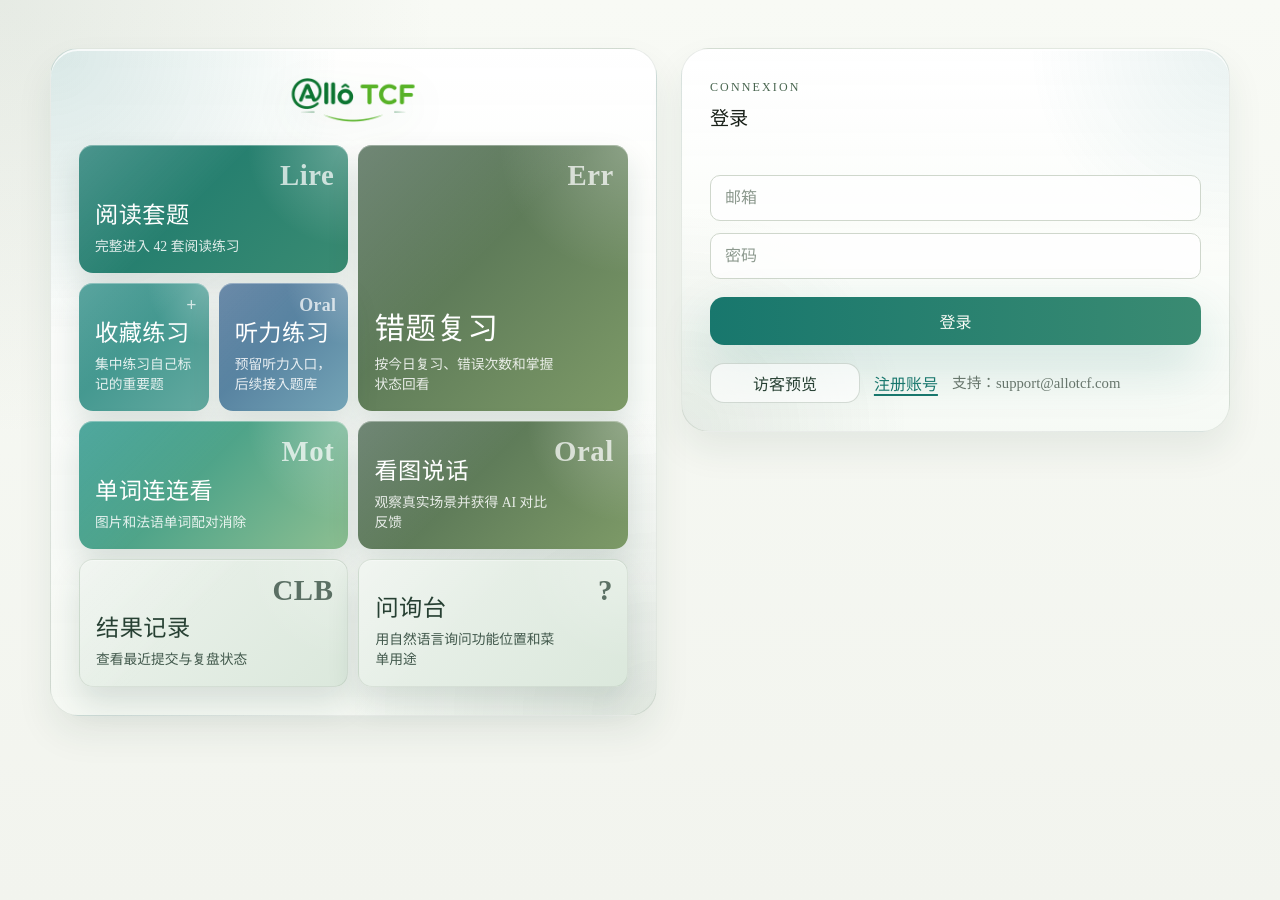
Test: LoginPage › shows detailed error message in development when login fails
The width and height of the screenshot is (1280, 900).
Type "a@b.com" into the field with placeholder "邮箱" at (955, 198), box [710,175,1201,221]
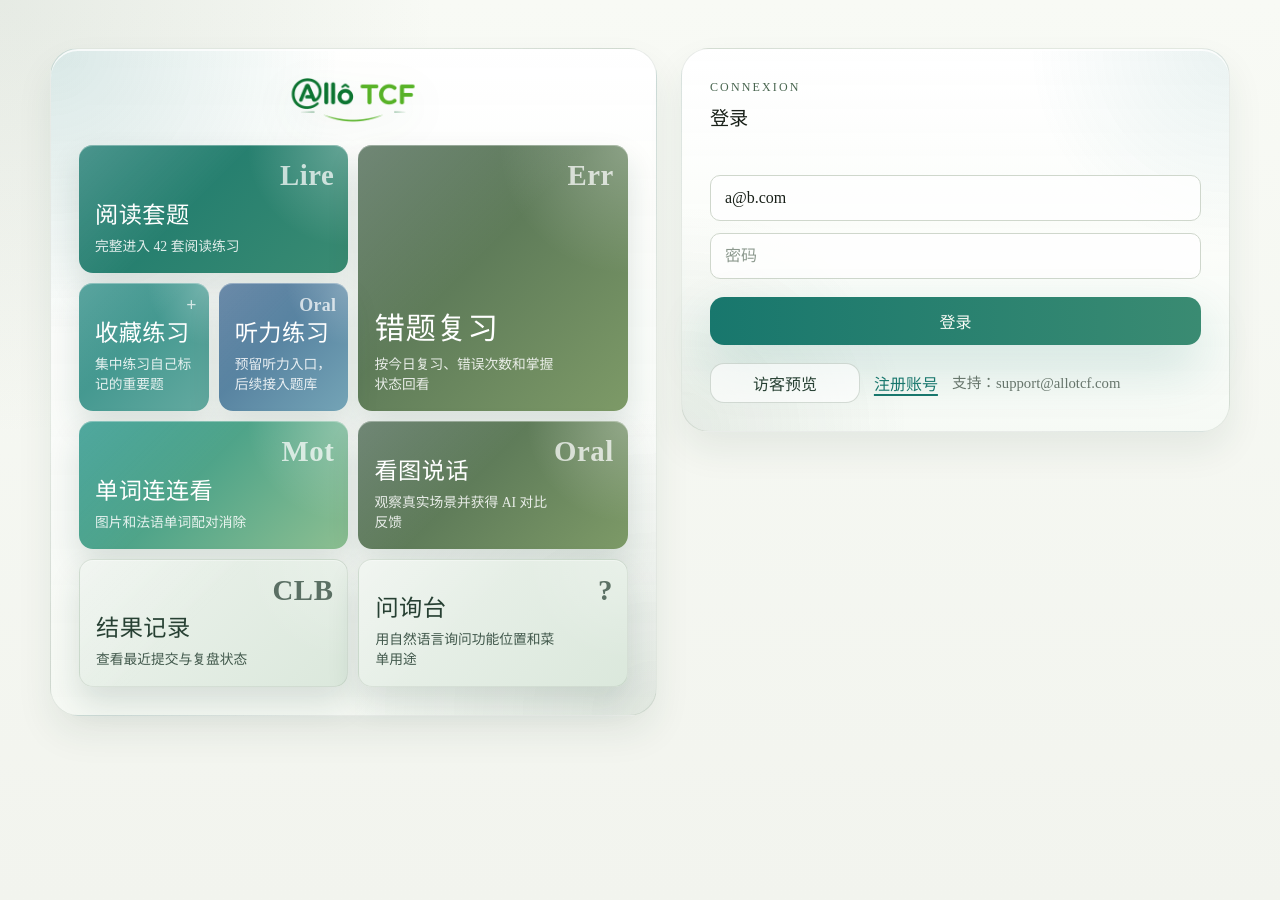
Type "password123" into the password field with placeholder "密码" at (955, 256), box [710,233,1201,279]
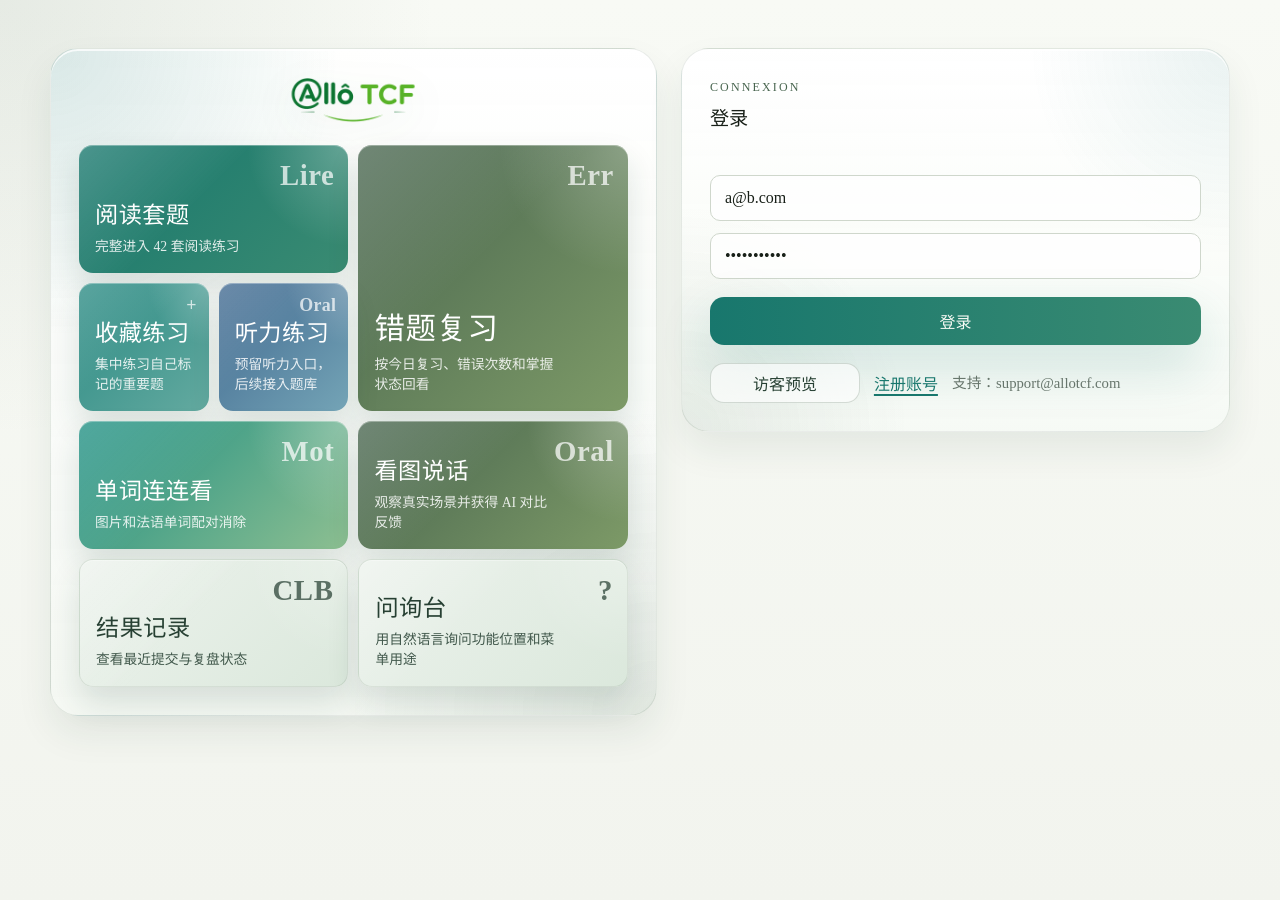
Click the button "登录" at (955, 321), box [710,297,1201,345]
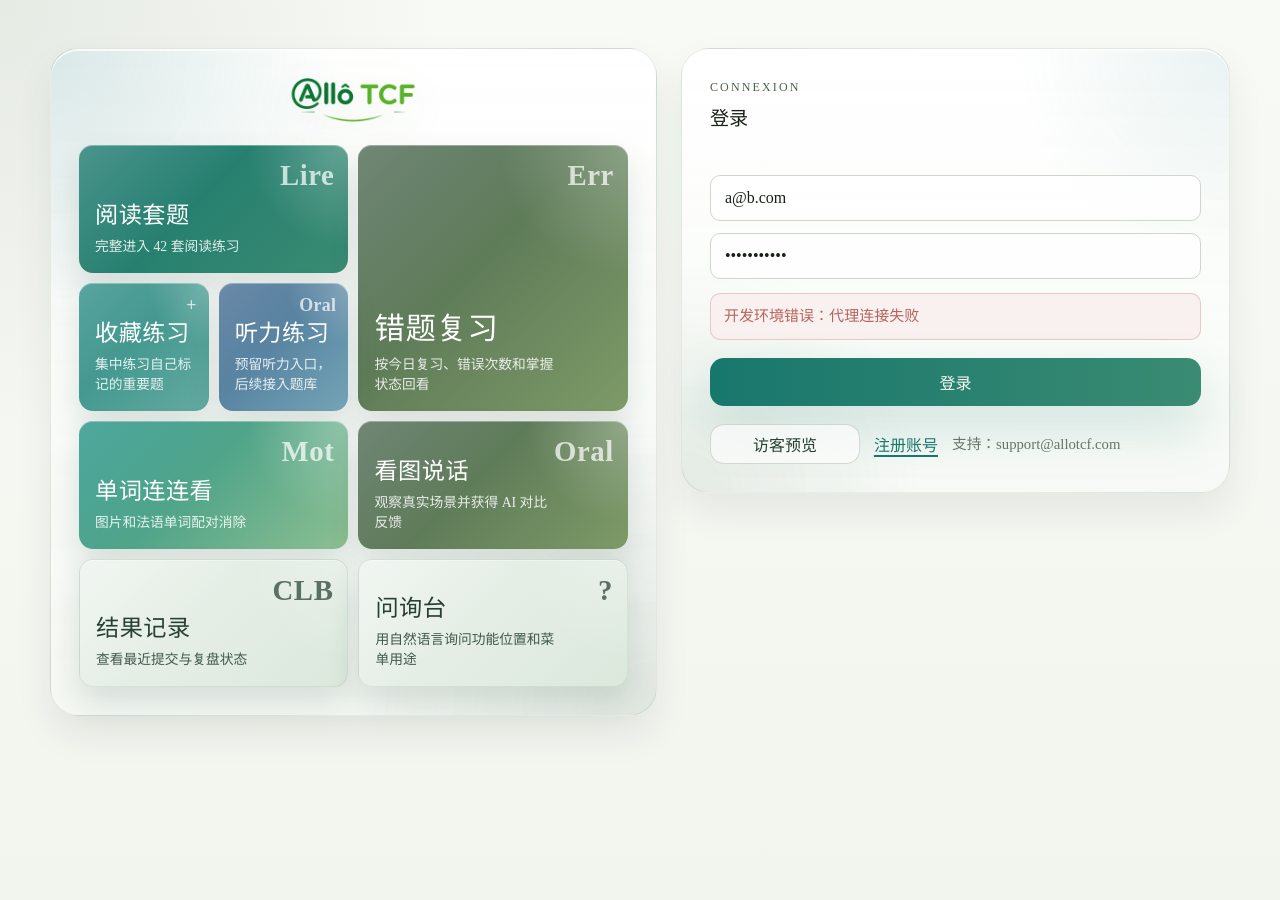
Check: the text "开发环境错误：代理连接失败" is shown, box [710,293,1201,340]
